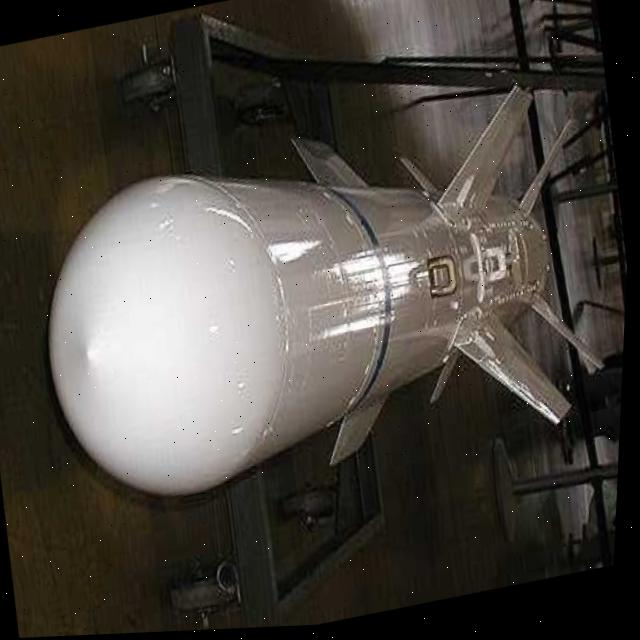missile: (12, 79, 626, 544)
